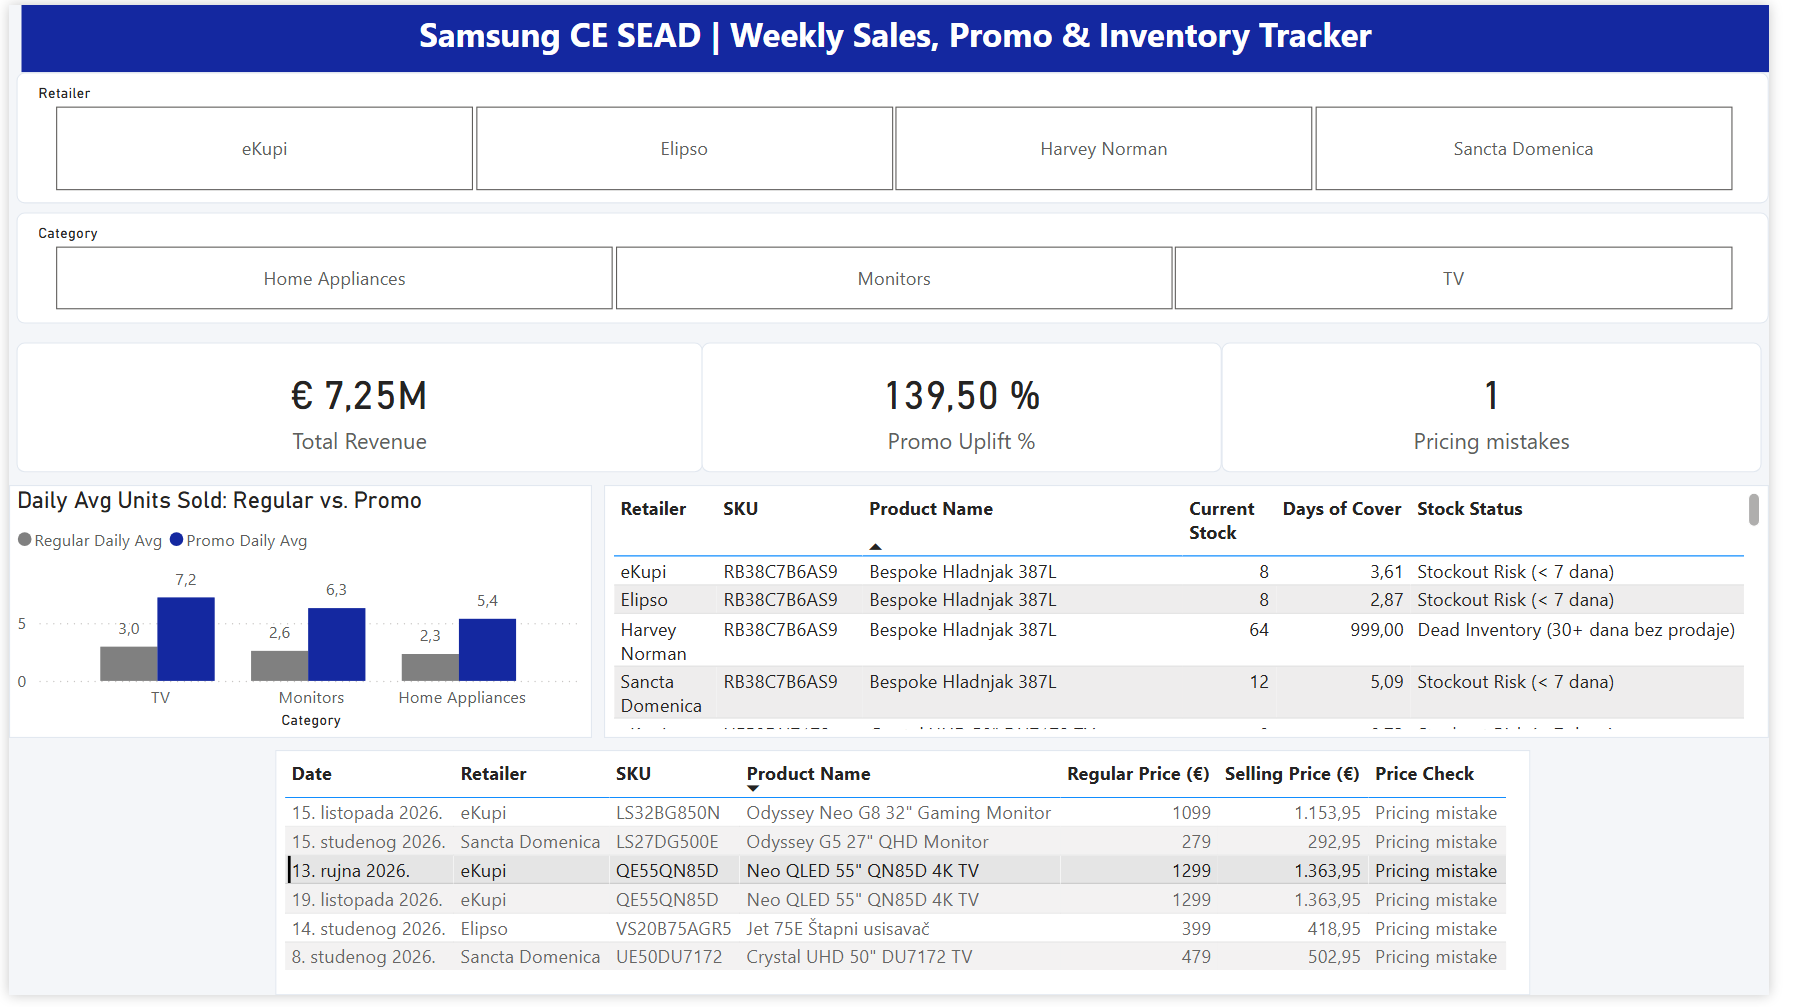

The page's visual inventory and layout, read from the dashboard file:
{"tool":"powerbi","page":{"name":"Page 2","canvas":[1280,720],"ordinal":1},"visuals":[{"type":"textbox","box":[9,0,1271,49],"z":0},{"type":"slicer","fields":{"Values":["Retail_Data_Raw.Retailer"]},"box":[5.5,49.1,1274.5,95.5],"z":1000},{"type":"slicer","fields":{"Values":["Retail_Data_Raw.Category"]},"box":[5.5,150.9,1274.5,80.9],"z":2000},{"type":"card","fields":{"Values":["Retail_Data_Raw.Total Revenue"]},"box":[5,245,499,94],"z":3000},{"type":"card","fields":{"Values":["Retail_Data_Raw.Promo Uplift %"]},"box":[504,245,378,94],"z":4000},{"type":"card","fields":{"Values":["CountNonNull(Promo_Audit.Price_Check)"]},"box":[882,245,393,94],"z":5000},{"type":"clusteredColumnChart","title":"Daily Avg Units Sold: Regular vs. Promo","fields":{"Category":["Retail_Data_Raw.Category"],"Y":["Retail_Data_Raw.Regular Daily Avg","Retail_Data_Raw.Promo Daily Avg"]},"box":[0,349.1,423.6,183.6],"z":6000},{"type":"tableEx","fields":{"Values":["Retail_Data_Raw.Retailer","Retail_Data_Raw.SKU","Retail_Data_Raw.Product_Name","Retail_Data_Raw.Current Stock","Retail_Data_Raw.Days of Cover","Retail_Data_Raw.Stock Status"]},"box":[432.7,349.1,847.3,183.6],"z":7000},{"type":"tableEx","fields":{"Values":["Promo_Audit.Date","Promo_Audit.Retailer","Promo_Audit.SKU","Promo_Audit.Product_Name","Sum(Promo_Audit.Regular_Price_EUR)","Sum(Promo_Audit.Selling_Price_EUR)","Promo_Audit.Price_Check"]},"box":[193.6,541.8,912.7,178.2],"z":7001}]}

Visuals, with their boxes in screenshot pixels (x1, y1, x2, y2), scaled from the page's 1280x720 canvas onto the 1807x1007 screenshot:
textbox: locate(13, 0, 1806, 69)
slicer - Retail_Data_Raw.Retailer: locate(8, 69, 1806, 202)
slicer - Retail_Data_Raw.Category: locate(8, 211, 1806, 324)
card - Retail_Data_Raw.Total Revenue: locate(7, 343, 712, 474)
card - Retail_Data_Raw.Promo Uplift %: locate(712, 343, 1245, 474)
card - CountNonNull(Promo_Audit.Price_Check): locate(1245, 343, 1800, 474)
"Daily Avg Units Sold: Regular vs. Promo" clusteredColumnChart: locate(0, 488, 598, 745)
tableEx - Retail_Data_Raw.Retailer x Retail_Data_Raw.SKU: locate(611, 488, 1806, 745)
tableEx - Promo_Audit.Date x Promo_Audit.Retailer: locate(273, 758, 1562, 1006)
